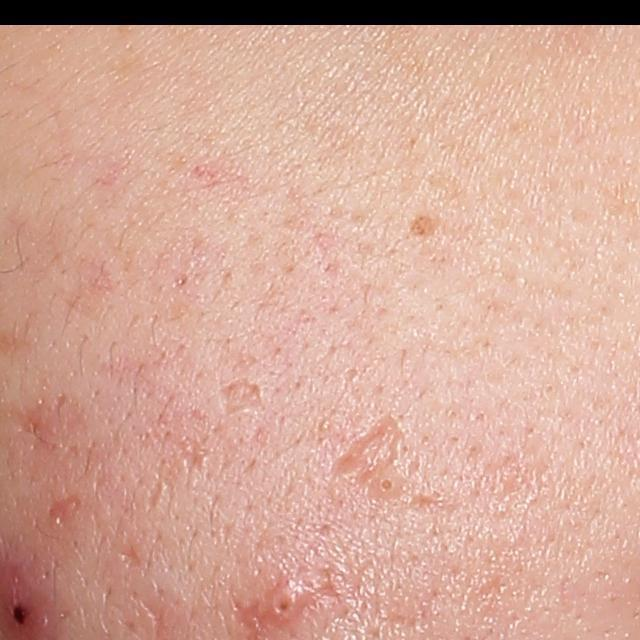atrophic_scar: (325, 412, 406, 485), (212, 376, 267, 420), (45, 491, 86, 529), (119, 543, 144, 572)
comedo: (372, 468, 404, 495)
papule: (262, 584, 303, 626)
